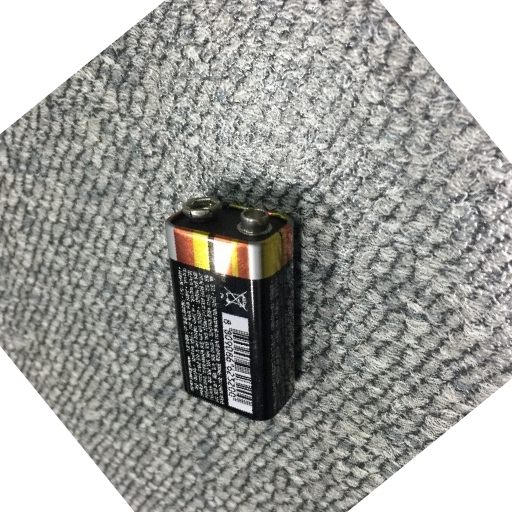Battery_3: (154, 188, 323, 427)
